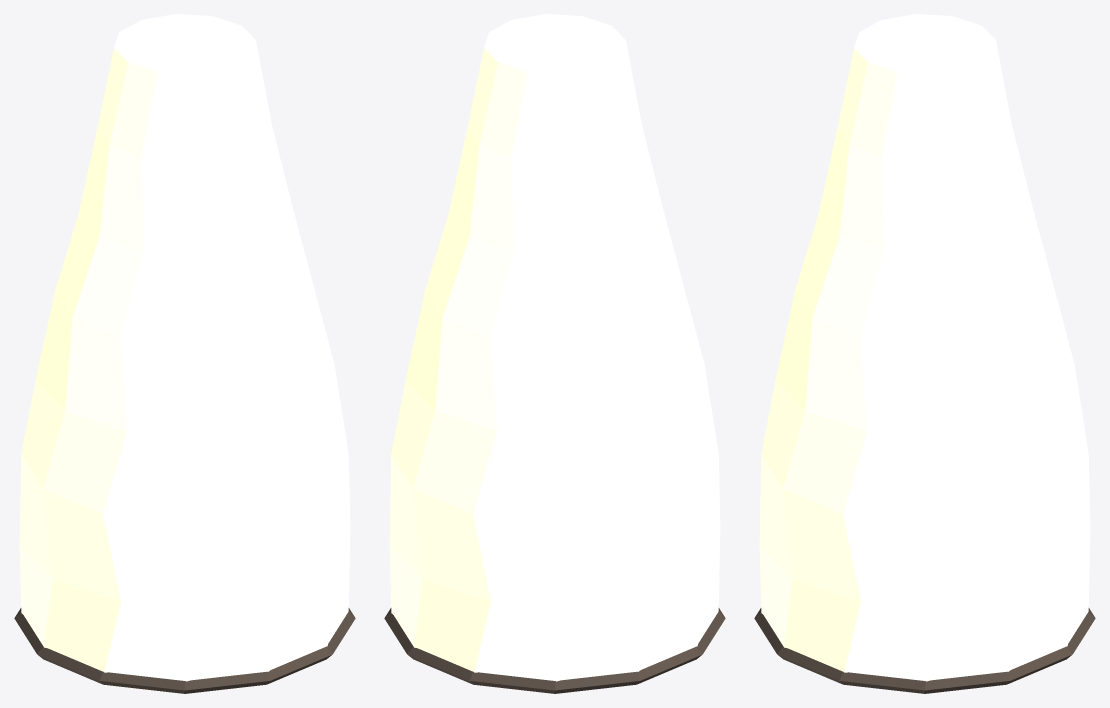
The picture shows the model from 3 angles, left to right: view 1: azimuth 30°, elevation 25°; view 2: azimuth 150°, elevation 25°; view 3: azimuth 270°, elevation 25°; orthographic projection.
Parts seen in each view (by area): view 1: shell, rim; view 2: shell, rim; view 3: shell, rim.
Boxes of the visible parts, x1=… form: shell: x1=19, y1=14, x2=350, y2=681; rim: x1=14, y1=608, x2=355, y2=693; shell: x1=389, y1=14, x2=720, y2=681; rim: x1=384, y1=608, x2=725, y2=693; shell: x1=759, y1=14, x2=1090, y2=681; rim: x1=754, y1=608, x2=1095, y2=693.
Bounding box in the file's own units: 0.334 × 0.627 × 0.334.
